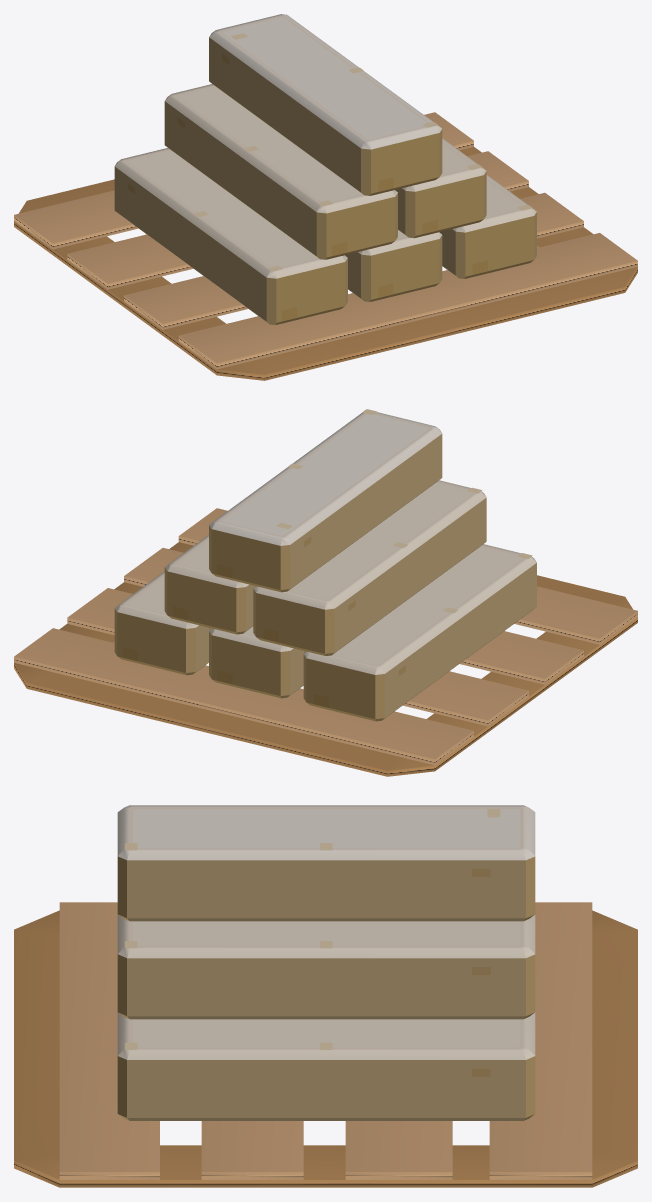
File: BC_cookrecipe_S_29.fbx
3 renders of one model, top to bottom at view 1: azimuth 30°, elevation 25°; view 2: azimuth 150°, elevation 25°; view 3: azimuth 270°, elevation 25°, orthographic. The views are drawn at different scales.
Parts seen in each view (by area): view 1: BC_cookrecipe_S_30 1, base; view 2: BC_cookrecipe_S_30 1, base; view 3: BC_cookrecipe_S_30 1, base.
Part boxes in pixels (x1,y1,x2,y2): BC_cookrecipe_S_30 1: (114,14,536,324); base: (14,112,637,380); BC_cookrecipe_S_30 1: (114,409,536,721); base: (14,508,637,776); BC_cookrecipe_S_30 1: (117,805,535,1120); base: (14,902,637,1187).
Bounding box in the file's own units: 3.54 × 1.38 × 3.47.
